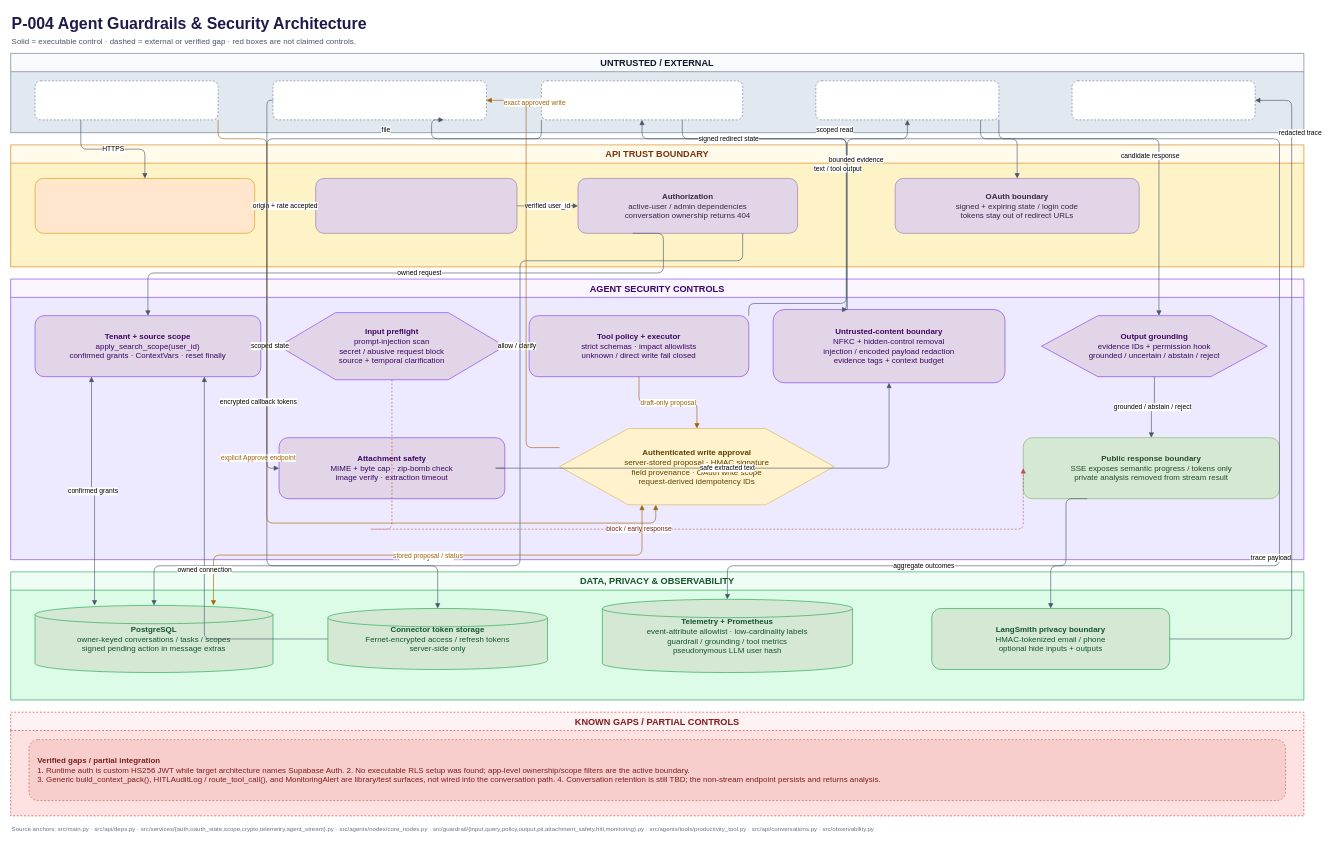
This 1332x858 diagram has some shape labels left out. Each missing label, with the centre of its shape:
Authentication custom HS256 access JWT type · exp · subject validation: [416,205]
Connected source content mail · chat · files · web pages: [642,100]
Edge controls CORS origin allowlist SlowAPI 100/min default · chat 20/min: [144,205]
LangSmith external trace sink: [1163,100]
LLM provider model calls / tool proposals: [907,100]
OAuth providers / APIs Google · Jira · Discord · Microsoft: [379,100]
User / browser Bearer token + explicit approval: [126,100]
